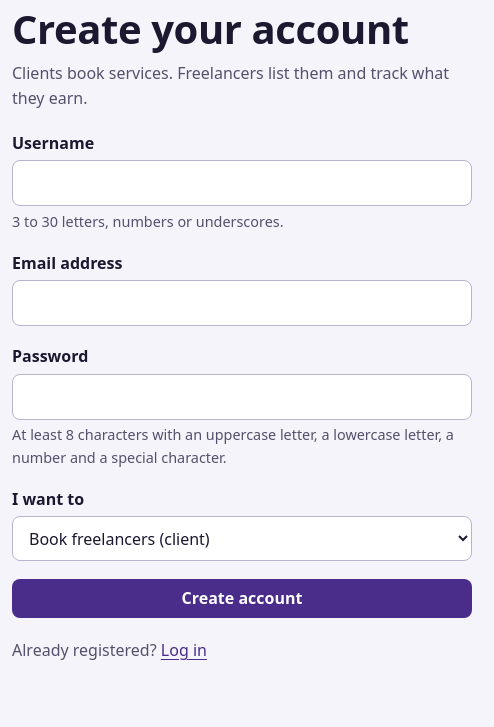
it: RegisterPage › explains a weak password and does not submit
The width and height of the screenshot is (494, 727).
Type "moe_alex" into the field labelled "Username" at (242, 183), box [12,160,472,206]
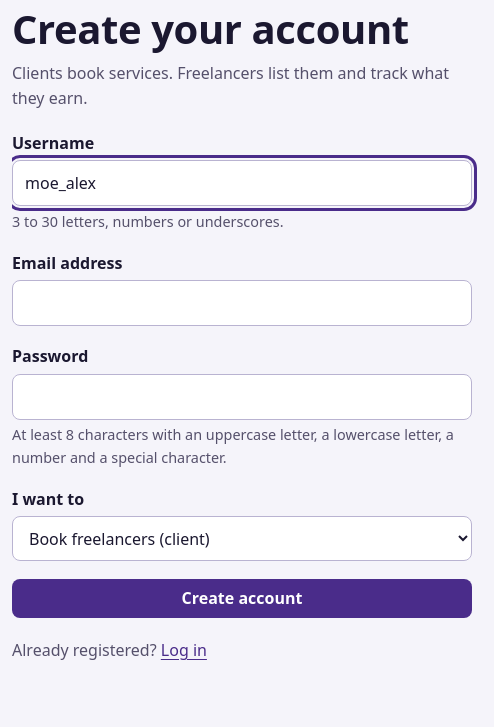
Type "moe@example.com" into the field labelled "Email address" at (242, 304), box [12,280,472,326]
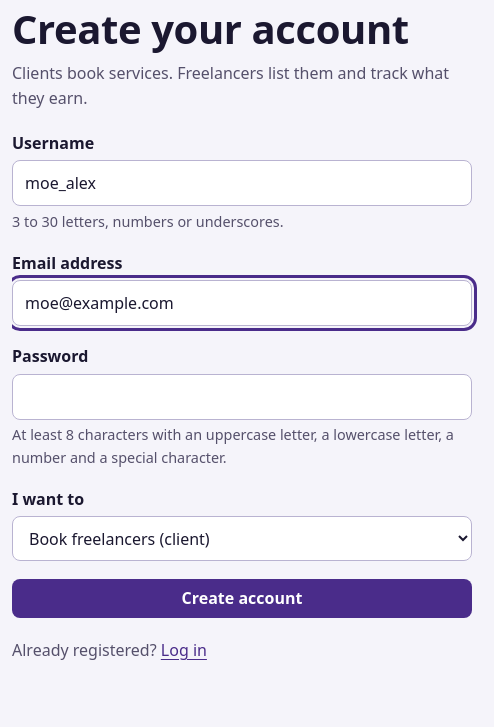
Type "password" into the password field labelled "Password" at (242, 397), box [12,374,472,420]
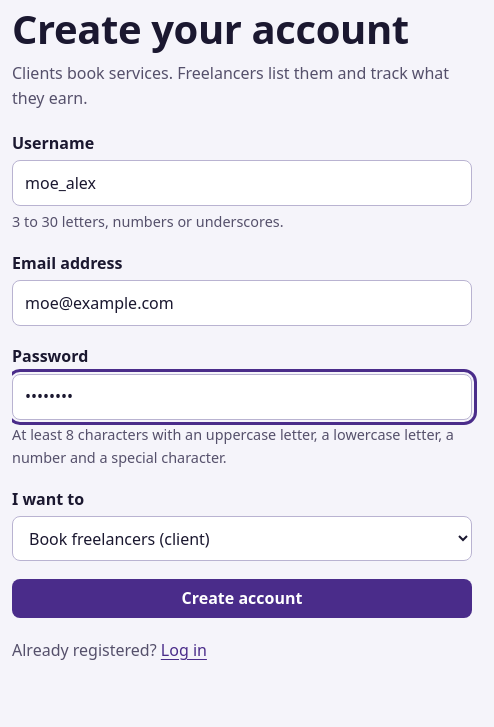
Click the button "Create account" at (242, 598), box [12,579,472,618]
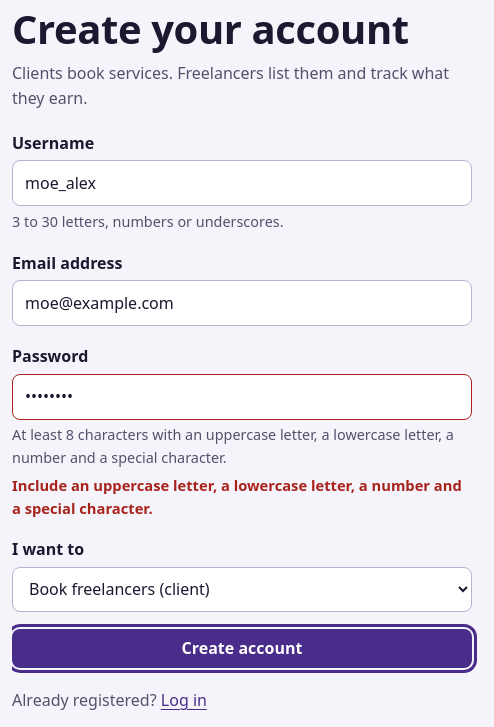
Expected: the text "Include an uppercase letter" is shown, [12,475,462,518]
